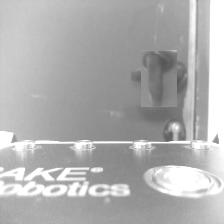Door Handle: (136, 54, 182, 102)
Lock: (164, 118, 186, 140)
